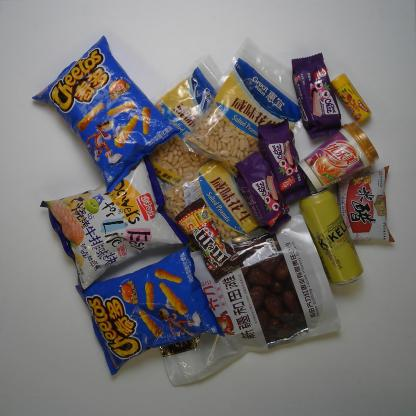Alcohol: (298, 172, 367, 292)
Candy: (329, 70, 372, 126)
Chocolate: (173, 194, 242, 281)
Dessert: (289, 52, 342, 138), (258, 120, 312, 203), (236, 150, 290, 232)
Dried Food: (158, 225, 347, 389)
Dried Fruit: (193, 36, 300, 172), (140, 55, 241, 191), (154, 157, 266, 254)
Instant Drink: (302, 97, 380, 193)
Puffed Food: (21, 32, 185, 184), (74, 242, 226, 375), (18, 163, 181, 285)
Seasoner: (337, 163, 402, 246)
